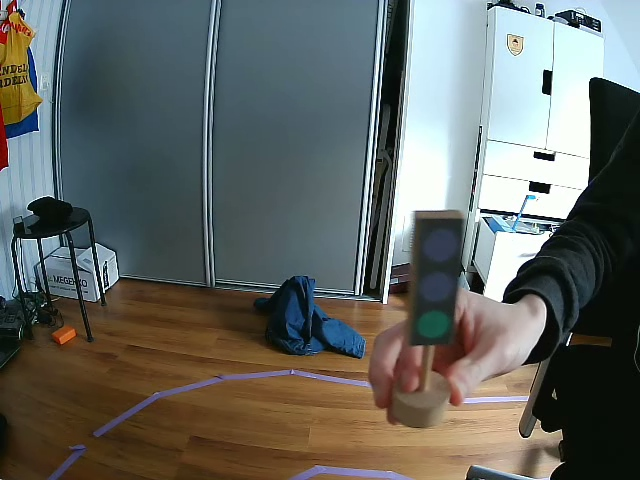groenlicht: (411, 218, 463, 345)
